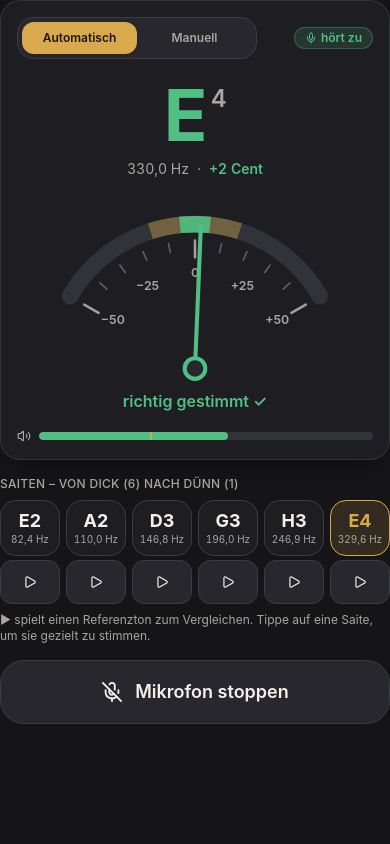
Scenario: TunerWidget › bewertet im manuellen Modus gegen die gewählte Saite
Click the button with aria-label "Saite 6: E2" at (30,528), box [0,500,60,556]
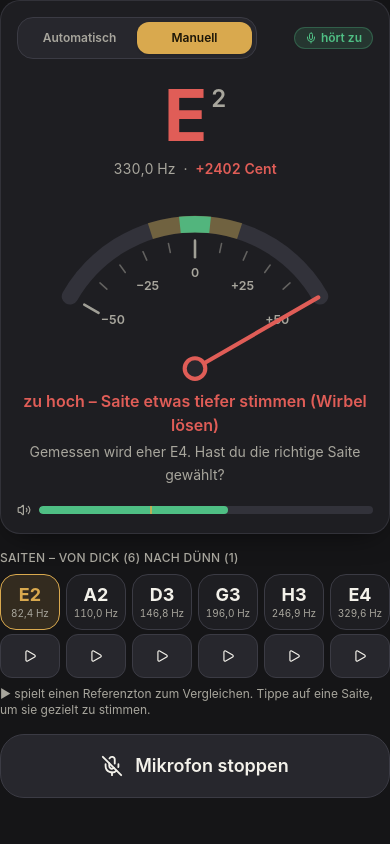
Result: the element with test id "tuner-note" reads "E 2" at [164,79,226,151]
Result: the message shows "zu hoch" at [23,391,367,435]
Result: the text "Gemessen wird eher E4. Hast du die richtige Saite gewählt?" is shown at [17,441,373,487]
